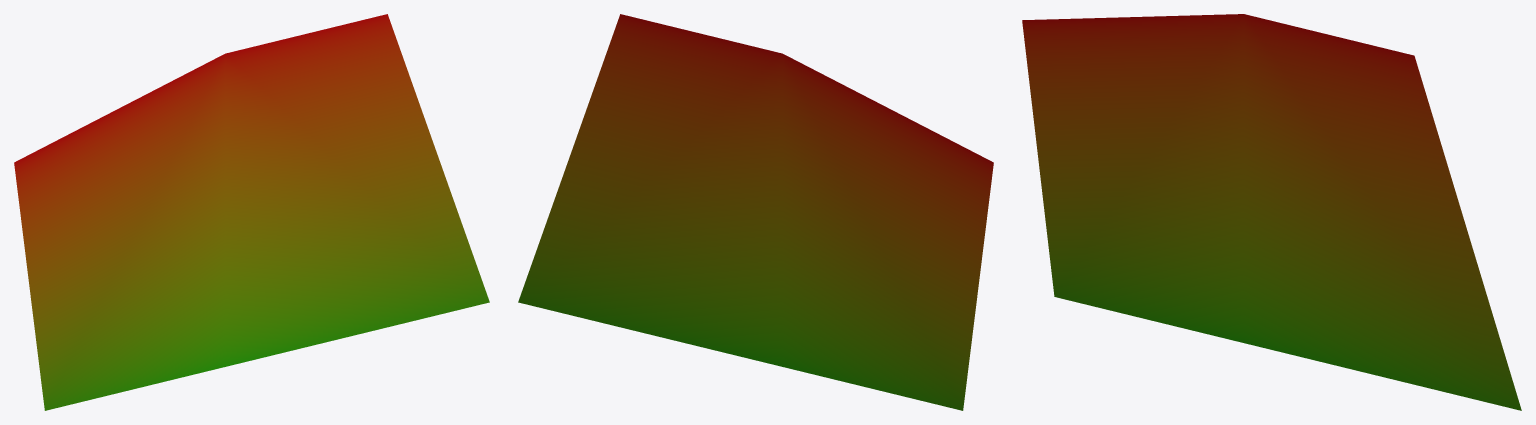
File: Basket Grass_LOD4_Var3_slfpffjr.fbx
3 views of the same model, side by side, from view 1: azimuth 30°, elevation 25°; view 2: azimuth 150°, elevation 25°; view 3: azimuth 330°, elevation 25° (orthographic). The views are drawn at different scales.
Parts seen in each view (by area): view 1: _2b21_Var3_LOD4; view 2: _2b21_Var3_LOD4; view 3: _2b21_Var3_LOD4.
Part boxes in pixels (<box>): _2b21_Var3_LOD4: <box>14,14,489,410</box>; _2b21_Var3_LOD4: <box>518,14,993,410</box>; _2b21_Var3_LOD4: <box>1022,14,1521,410</box>.
Bounding box in the file's own units: 70.8 × 44.55 × 9.54e-07.
